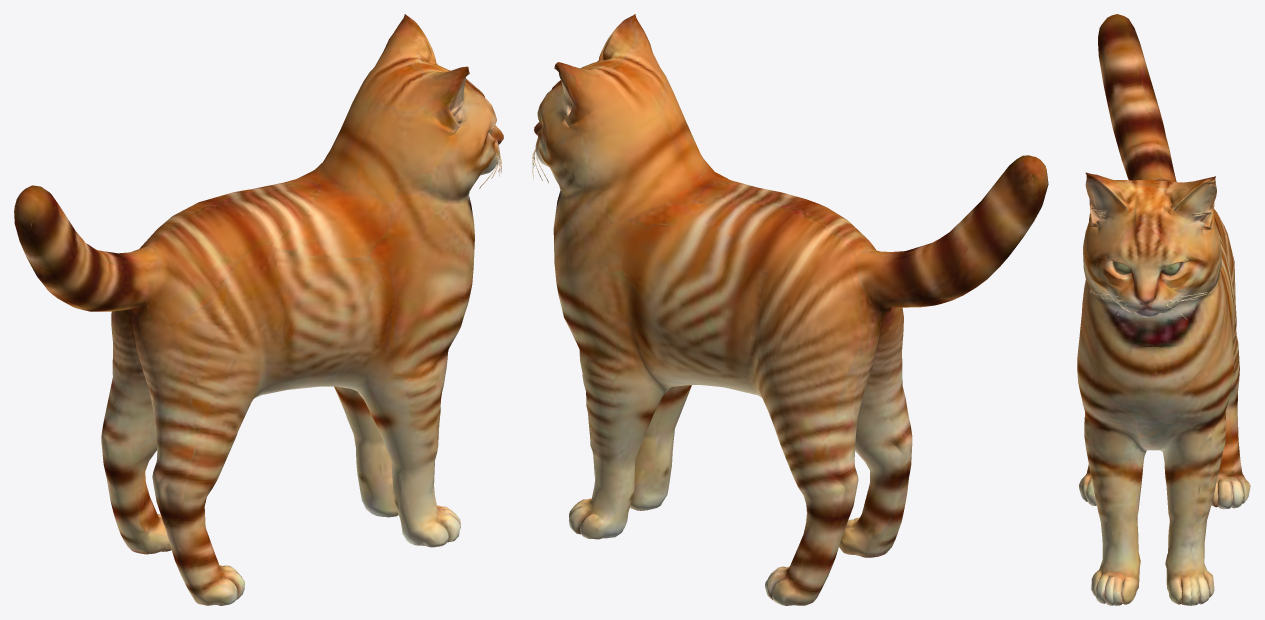
Rendered from BUTTERED-lo.glb.
The picture shows the model from 3 angles, left to right: view 1: azimuth 30°, elevation 25°; view 2: azimuth 150°, elevation 25°; view 3: azimuth 270°, elevation 25°; orthographic projection. The views are drawn at different scales.
Parts seen in each view (by area): view 1: fit; view 2: fit; view 3: fit.
Part boxes in pixels (x1,y1,x2,y2): fit: (14, 14, 503, 605); fit: (532, 14, 1048, 605); fit: (1077, 14, 1250, 605).
Size of the model in its own units: 1.09 by 0.9999 by 0.3612.
Materials: 1 (1 with a texture image).
